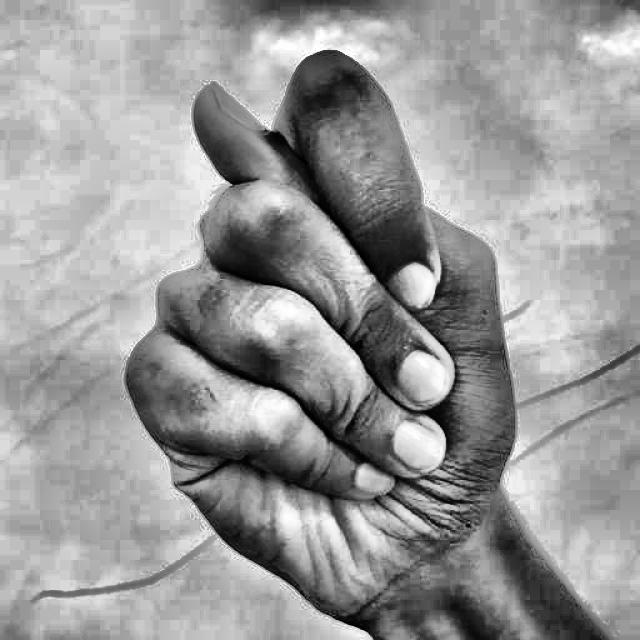Ta: (100, 25, 570, 640)
